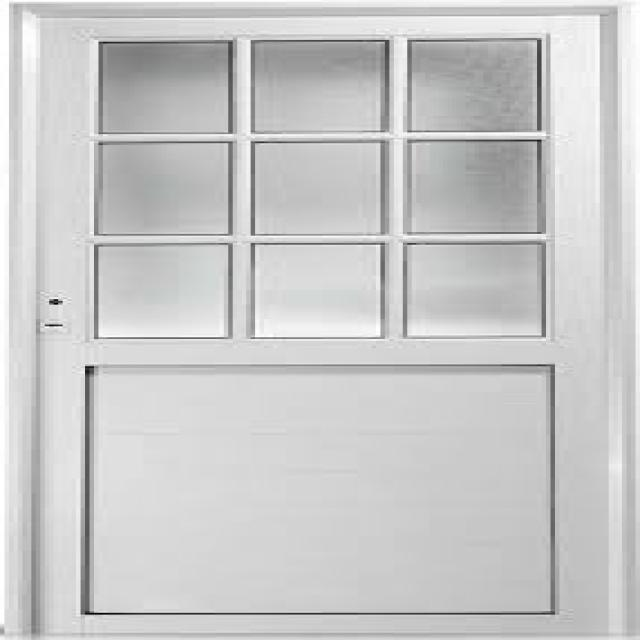door: (9, 1, 635, 635)
